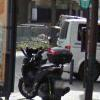Motorcycle: (20, 37, 86, 100)
